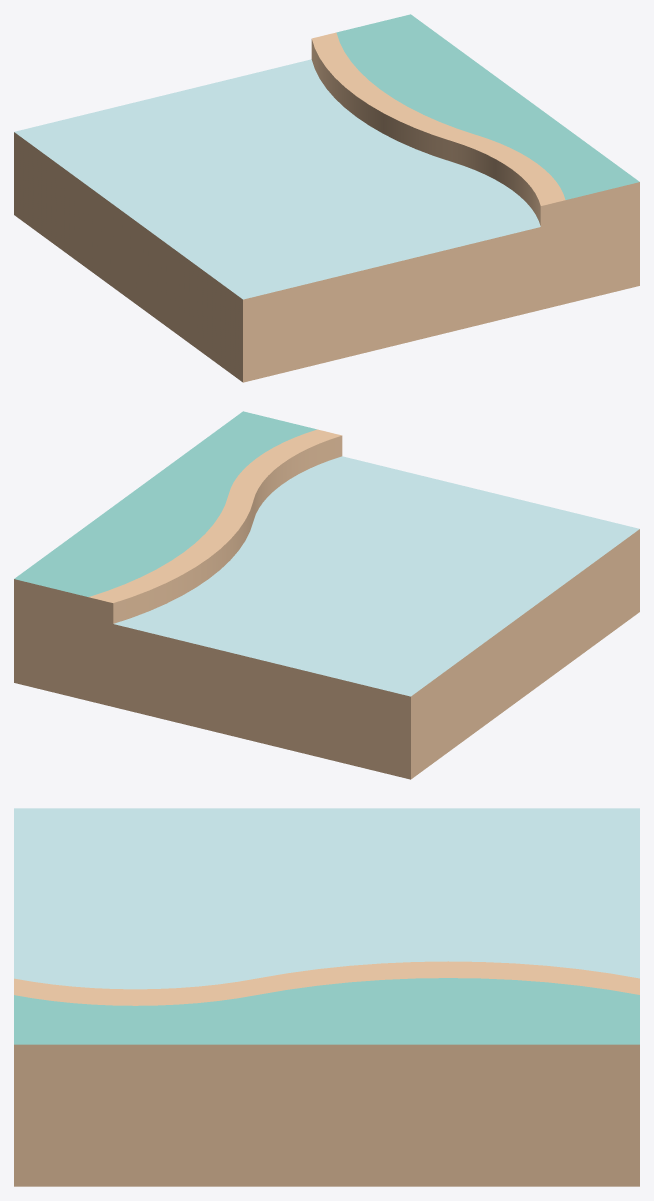
The model's file is ground_dirtRiverSide.glb.
3 renders of one model, top to bottom at view 1: azimuth 30°, elevation 25°; view 2: azimuth 150°, elevation 25°; view 3: azimuth 270°, elevation 25°, orthographic. The views are drawn at different scales.
Visible parts, largest first — view 1: ground_dirtRiverSide; view 2: ground_dirtRiverSide; view 3: ground_dirtRiverSide.
Part boxes in pixels (x1,y1,x2,y2): ground_dirtRiverSide: (14, 14, 639, 382); ground_dirtRiverSide: (14, 411, 639, 779); ground_dirtRiverSide: (14, 808, 639, 1186).
Size of the model in its own units: 10 by 2.5 by 10.
